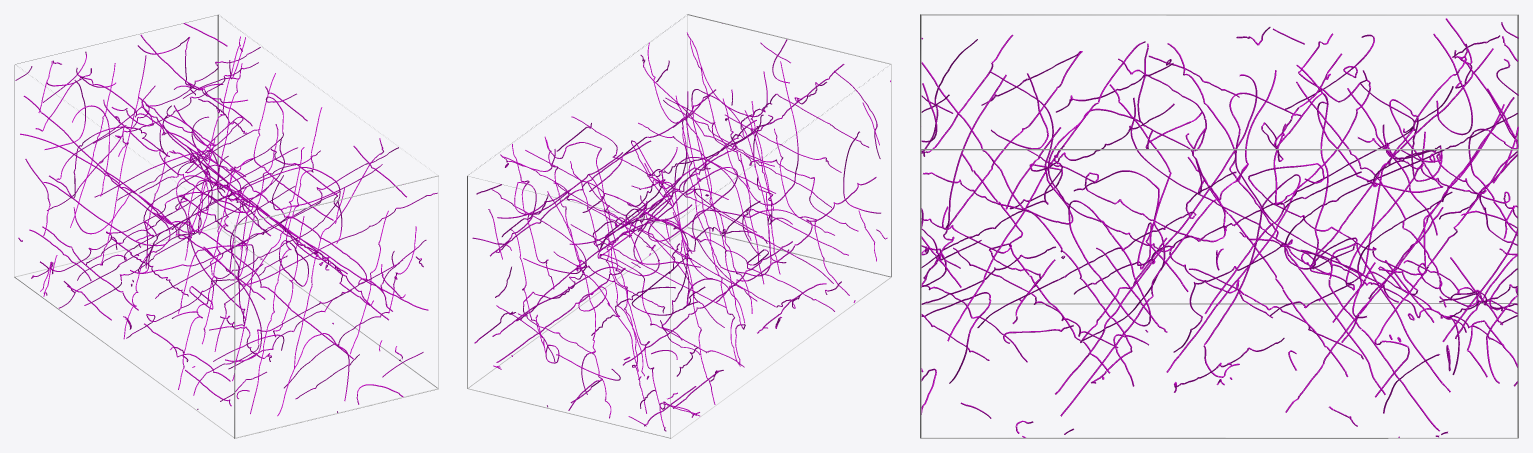
3 renders of one model, left to right at view 1: azimuth 30°, elevation 25°; view 2: azimuth 150°, elevation 25°; view 3: azimuth 270°, elevation 25°, orthographic. The views are drawn at different scales.
Visible parts, largest first — view 1: Shape_IndexedLineSet.001, Shape_IndexedLineSet; view 2: Shape_IndexedLineSet.001, Shape_IndexedLineSet; view 3: Shape_IndexedLineSet.001, Shape_IndexedLineSet.
Boxes of the visible parts, x1,y1,x2,y2 form: Shape_IndexedLineSet.001: [15, 23, 437, 416]; Shape_IndexedLineSet: [14, 14, 438, 438]; Shape_IndexedLineSet.001: [472, 23, 890, 431]; Shape_IndexedLineSet: [467, 14, 891, 438]; Shape_IndexedLineSet.001: [921, 18, 1518, 437]; Shape_IndexedLineSet: [920, 14, 1518, 438].
Bounding box in the file's own units: 239 × 239 × 447.
